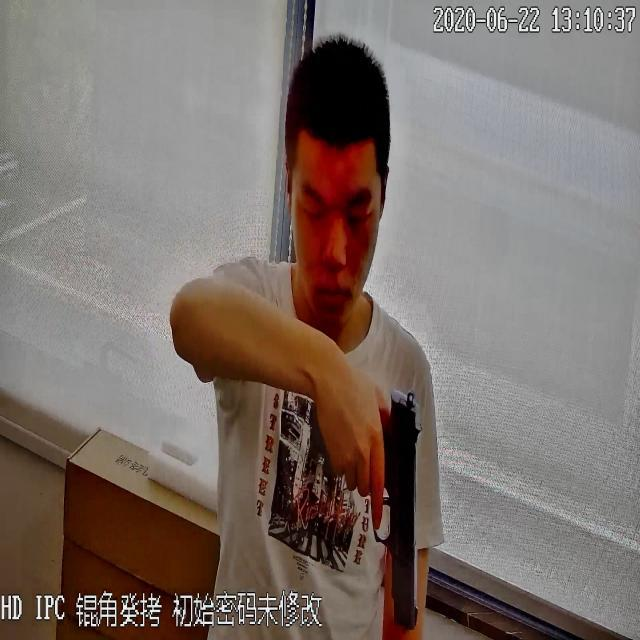gun-knife-thesis - v11 Yolov5 augmented: (319, 380, 429, 636)
